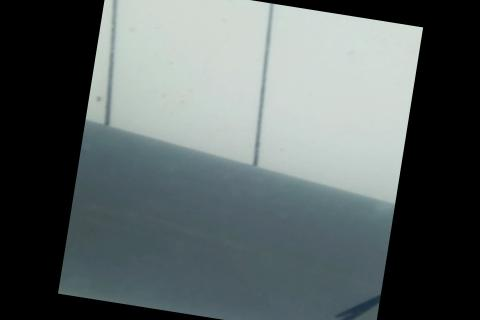keretakan: (305, 275, 382, 320)
